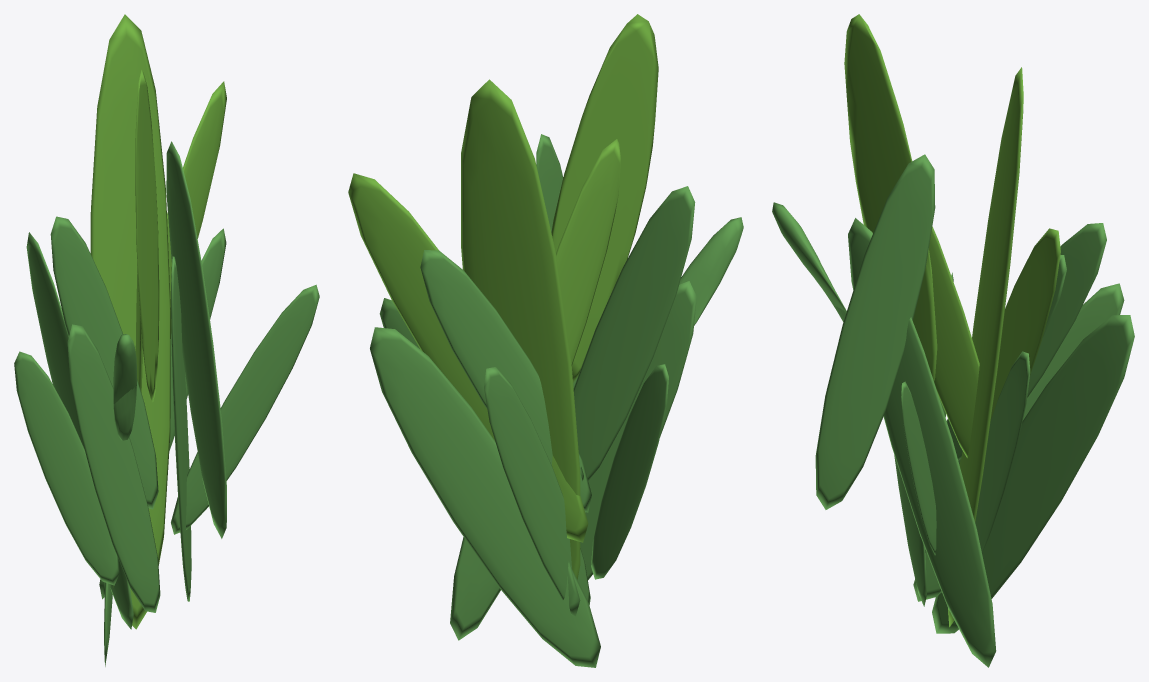
Rendered from grass0.fbx.
3 views of the same model, side by side, from view 1: azimuth 30°, elevation 25°; view 2: azimuth 150°, elevation 25°; view 3: azimuth 270°, elevation 25° (orthographic).
Visible parts, largest first — view 1: grass.002; view 2: grass.002; view 3: grass.002.
Boxes of the visible parts, <box> form: grass.002: <box>14,14,319,666</box>; grass.002: <box>348,14,743,667</box>; grass.002: <box>772,14,1134,667</box>.
Size of the model in its own units: 139 by 299 by 159.
